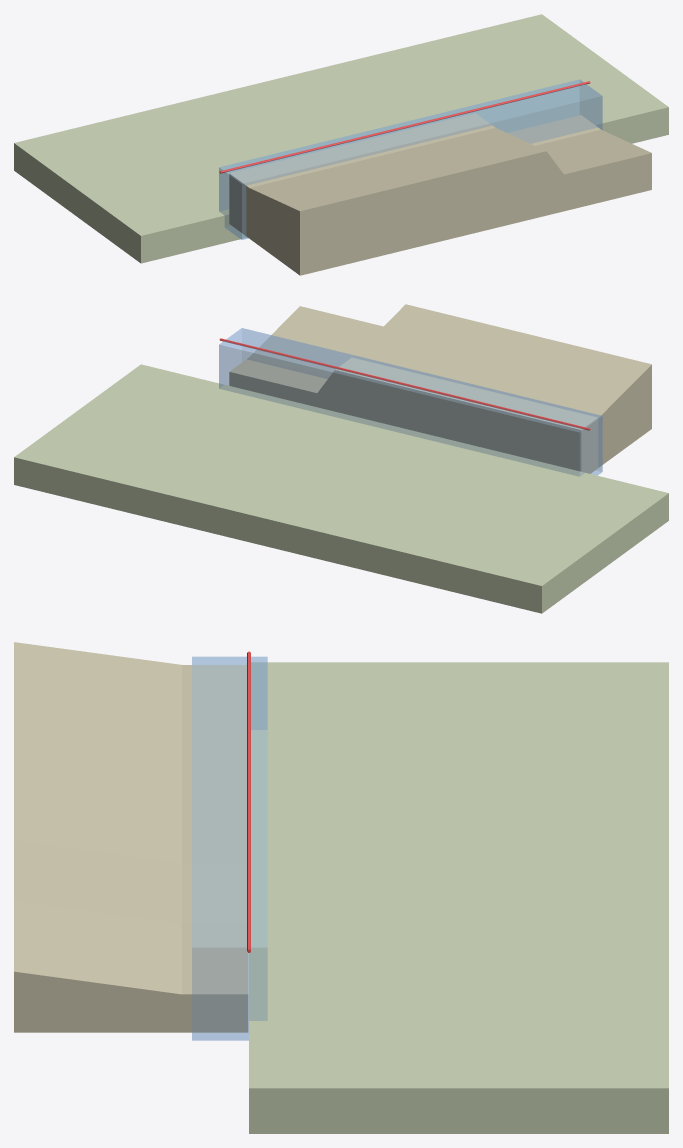
3 views of the same model, one above another, from view 1: azimuth 30°, elevation 25°; view 2: azimuth 150°, elevation 25°; view 3: azimuth 270°, elevation 25° (orthographic). The views are drawn at different scales.
Visible parts, largest first — view 1: 地形|前面地盤 (参考), 土工|背面盛土 (参考), 概略形状|擁壁範囲ボックス, 線形|擁壁法線 (前面線); view 2: 地形|前面地盤 (参考), 土工|背面盛土 (参考), 概略形状|擁壁範囲ボックス, 線形|擁壁法線 (前面線); view 3: 地形|前面地盤 (参考), 土工|背面盛土 (参考), 概略形状|擁壁範囲ボックス, 線形|擁壁法線 (前面線).
Boxes of the visible parts, <box> form: 地形|前面地盤 (参考): <box>14,14,668,263</box>; 土工|背面盛土 (参考): <box>229,113,651,275</box>; 概略形状|擁壁範囲ボックス: <box>219,79,602,239</box>; 線形|擁壁法線 (前面線): <box>219,81,590,173</box>; 地形|前面地盤 (参考): <box>14,364,668,613</box>; 土工|背面盛土 (参考): <box>229,304,651,473</box>; 概略形状|擁壁範囲ボックス: <box>219,328,602,476</box>; 線形|擁壁法線 (前面線): <box>219,338,590,430</box>; 地形|前面地盤 (参考): <box>249,662,668,1133</box>; 土工|背面盛土 (参考): <box>14,642,248,1032</box>; 概略形状|擁壁範囲ボックス: <box>192,656,267,1040</box>; 線形|擁壁法線 (前面線): <box>247,651,250,952</box>.
Size of the model in its own units: 60 by 9 by 39.
